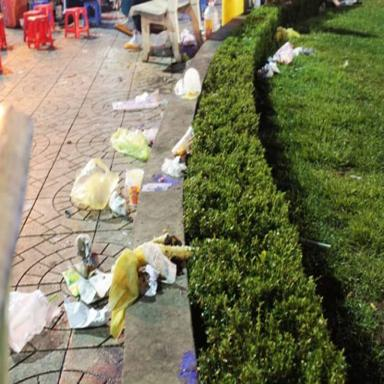plasticbag: (63, 228, 196, 332), (252, 19, 314, 93), (4, 277, 62, 353), (66, 149, 118, 214), (109, 118, 153, 166), (112, 88, 170, 115), (173, 66, 201, 106), (158, 151, 187, 182)
